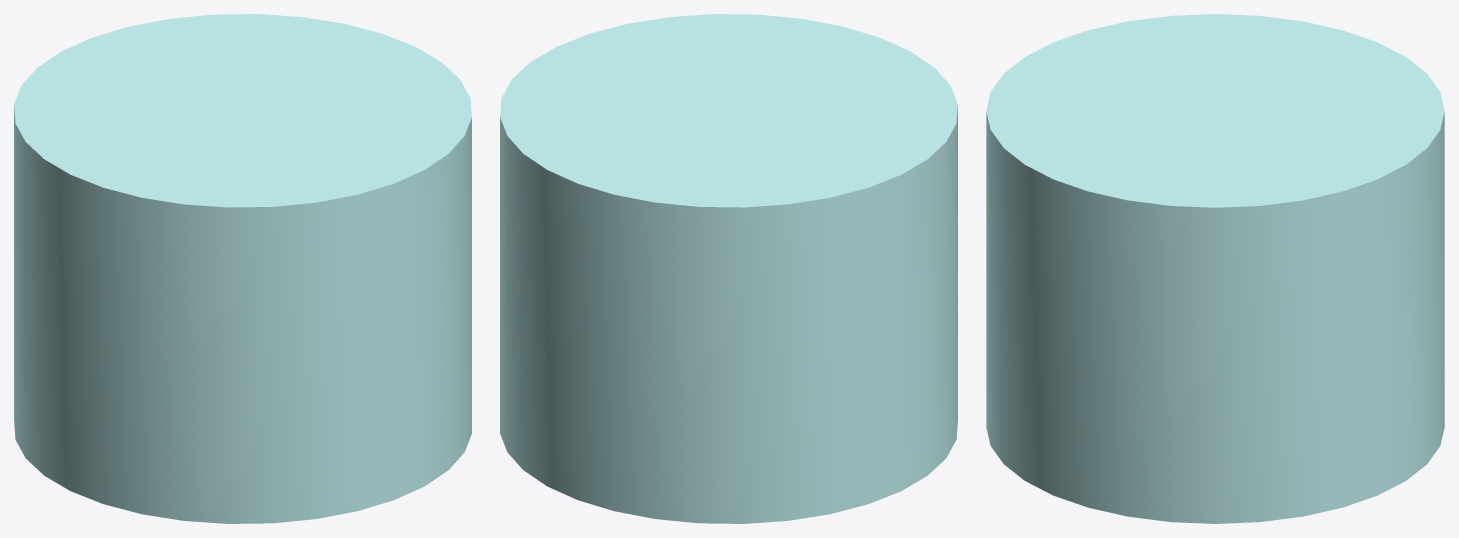
The model's file is EM_GlowPlasmaCore.fbx.
3 renders of one model, left to right at view 1: azimuth 30°, elevation 25°; view 2: azimuth 150°, elevation 25°; view 3: azimuth 270°, elevation 25°, orthographic.
Visible parts, largest first — view 1: EM_GlowPlasmaCore; view 2: EM_GlowPlasmaCore; view 3: EM_GlowPlasmaCore.
Part boxes in pixels (bbox=[...]): EM_GlowPlasmaCore: bbox=[14, 14, 471, 523]; EM_GlowPlasmaCore: bbox=[500, 14, 957, 523]; EM_GlowPlasmaCore: bbox=[986, 14, 1444, 523].
Size of the model in its own units: 0.92 by 0.7 by 0.92.
